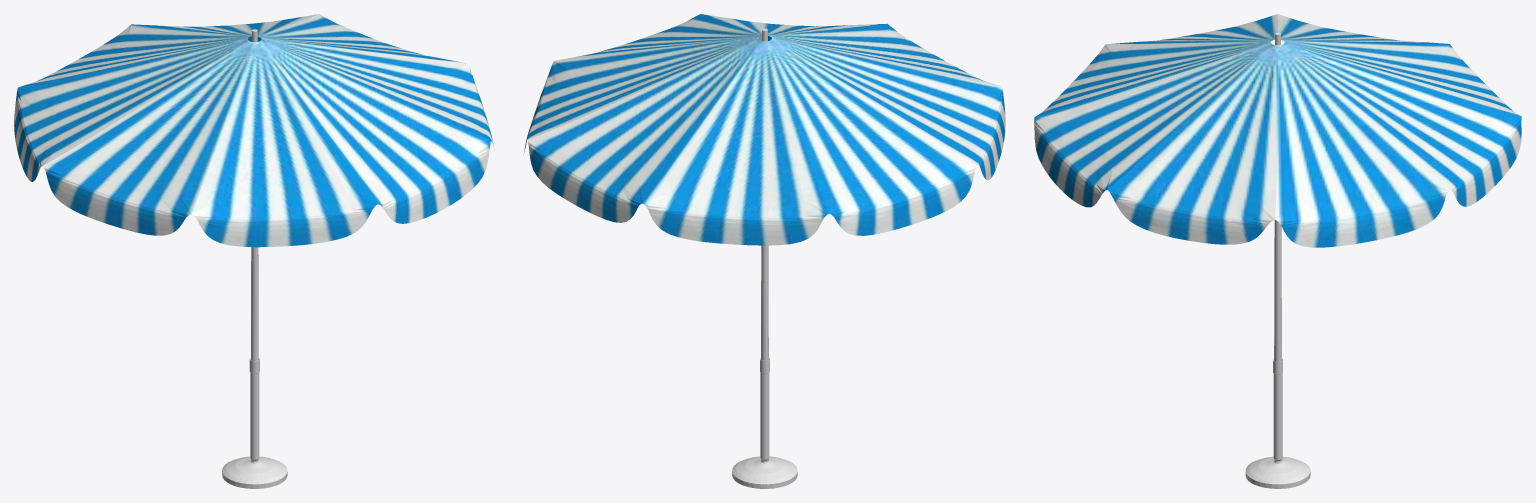
The model's file is sh-bs0-umbrella.glb.
3 renders of one model, left to right at view 1: azimuth 30°, elevation 25°; view 2: azimuth 150°, elevation 25°; view 3: azimuth 270°, elevation 25°, orthographic.
Parts seen in each view (by area): view 1: Umbrella_Cylinder.001, Umbrella_Stand_Cylinder; view 2: Umbrella_Cylinder.001, Umbrella_Stand_Cylinder; view 3: Umbrella_Cylinder.001, Umbrella_Stand_Cylinder.
Part boxes in pixels (x1,y1,x2,y2): Umbrella_Cylinder.001: (14,14,494,247); Umbrella_Stand_Cylinder: (222,29,287,488); Umbrella_Cylinder.001: (523,14,1005,245); Umbrella_Stand_Cylinder: (732,28,797,488); Umbrella_Cylinder.001: (1034,14,1521,247); Umbrella_Stand_Cylinder: (1245,32,1310,488).
Bounding box in the file's own units: 1 × 1 × 1.
2 materials, 1 textured.
